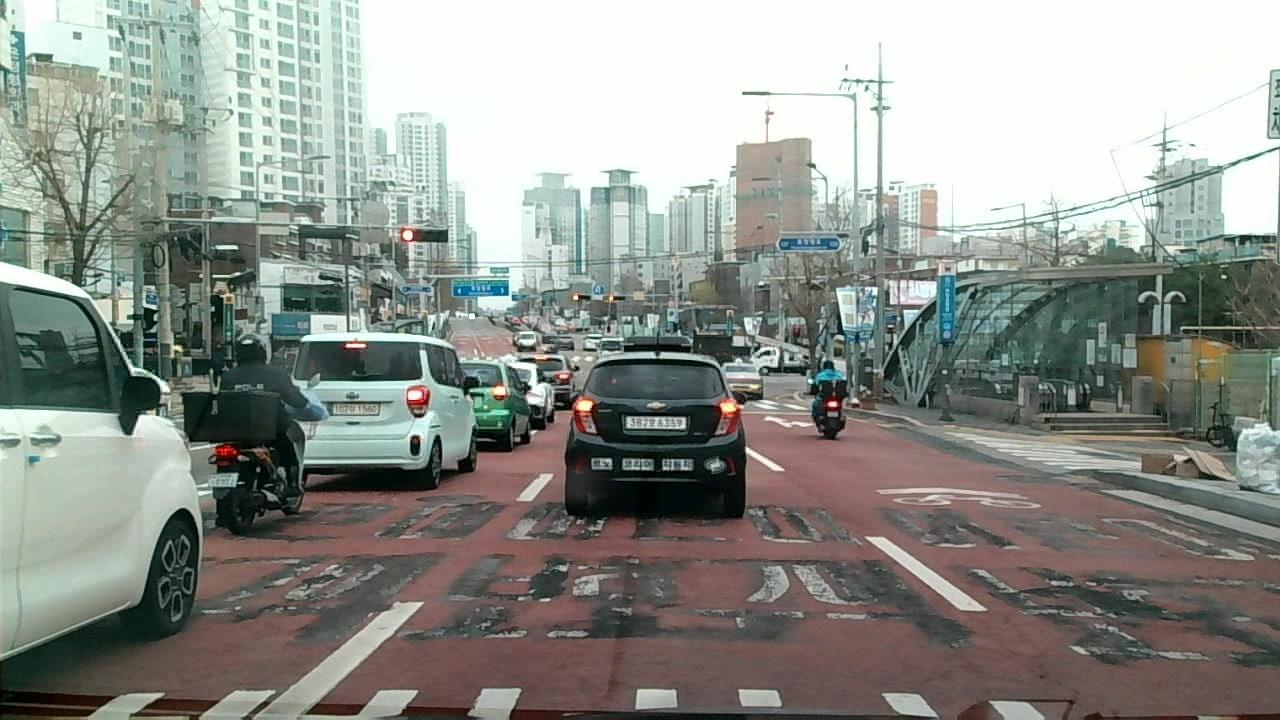banner: (1233, 421, 1280, 491)
